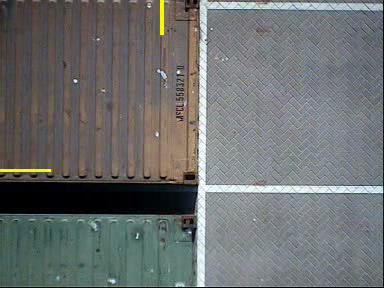groundmarker_2: (196, 152, 250, 228)
